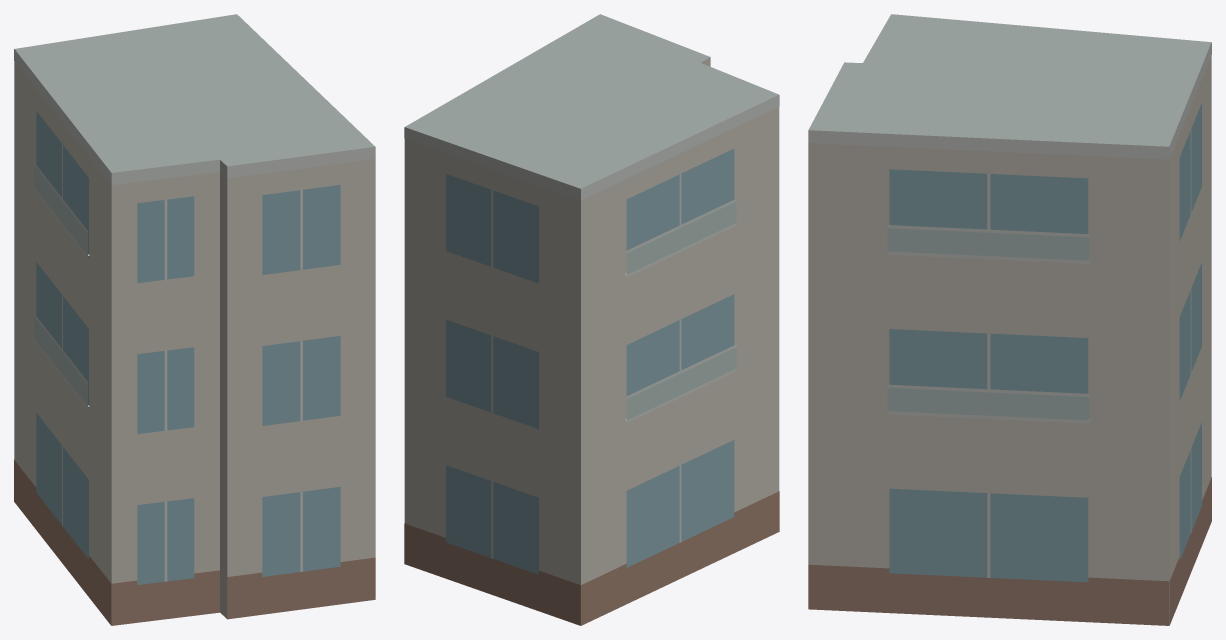
Rendered from survey-upis-32467501.glb.
The picture shows the model from 3 angles, left to right: view 1: azimuth 30°, elevation 25°; view 2: azimuth 150°, elevation 25°; view 3: azimuth 270°, elevation 25°; orthographic projection. The views are drawn at different scales.
Parts seen in each view (by area): view 1: survey-upis-32467501.tmp; view 2: survey-upis-32467501.tmp; view 3: survey-upis-32467501.tmp.
Part boxes in pixels (x1=…): survey-upis-32467501.tmp: x1=14, y1=14, x2=375, y2=625; survey-upis-32467501.tmp: x1=404, y1=14, x2=779, y2=625; survey-upis-32467501.tmp: x1=808, y1=14, x2=1211, y2=625.
Size of the model in its own units: 5.44 by 9.15 by 6.99.
